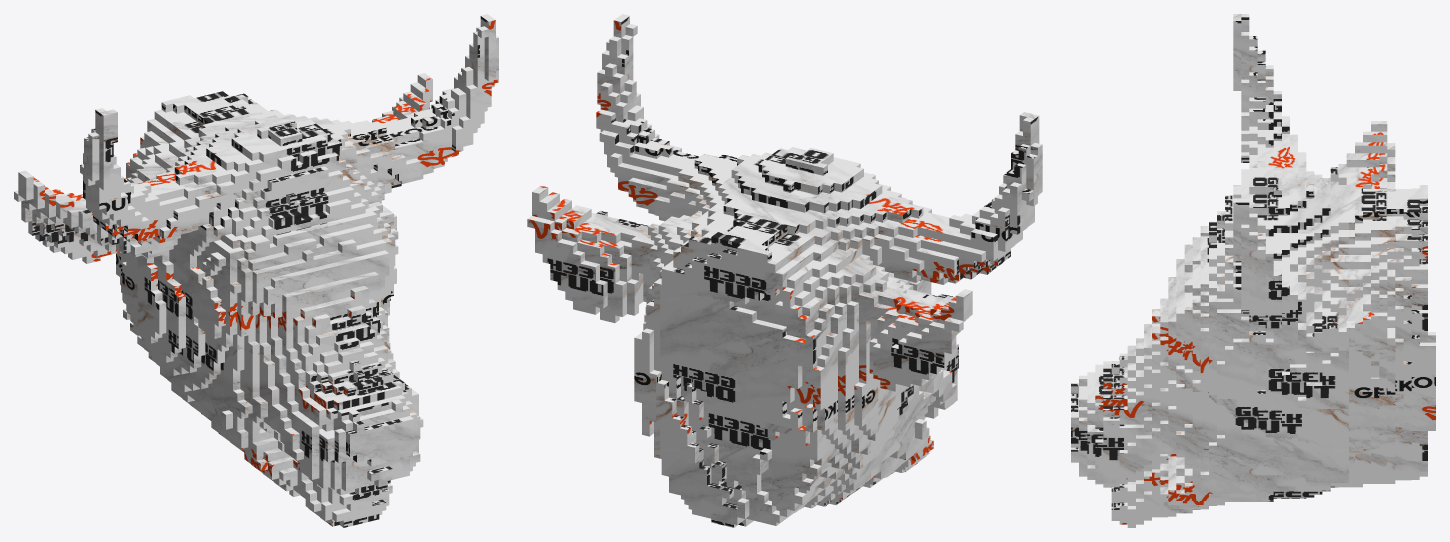
The model's file is bull_web.glb.
3 renders of one model, left to right at view 1: azimuth 30°, elevation 25°; view 2: azimuth 150°, elevation 25°; view 3: azimuth 270°, elevation 25°, orthographic. The views are drawn at different scales.
Parts seen in each view (by area): view 1: LOW; view 2: LOW; view 3: LOW.
Boxes of the visible parts, x1,y1,x2,y2 form: LOW: (14,14,498,527); LOW: (527,14,1042,527); LOW: (1071,14,1435,527).
Size of the model in its own units: 1.76 by 1.7 by 1.39.
1 material, 1 textured.
